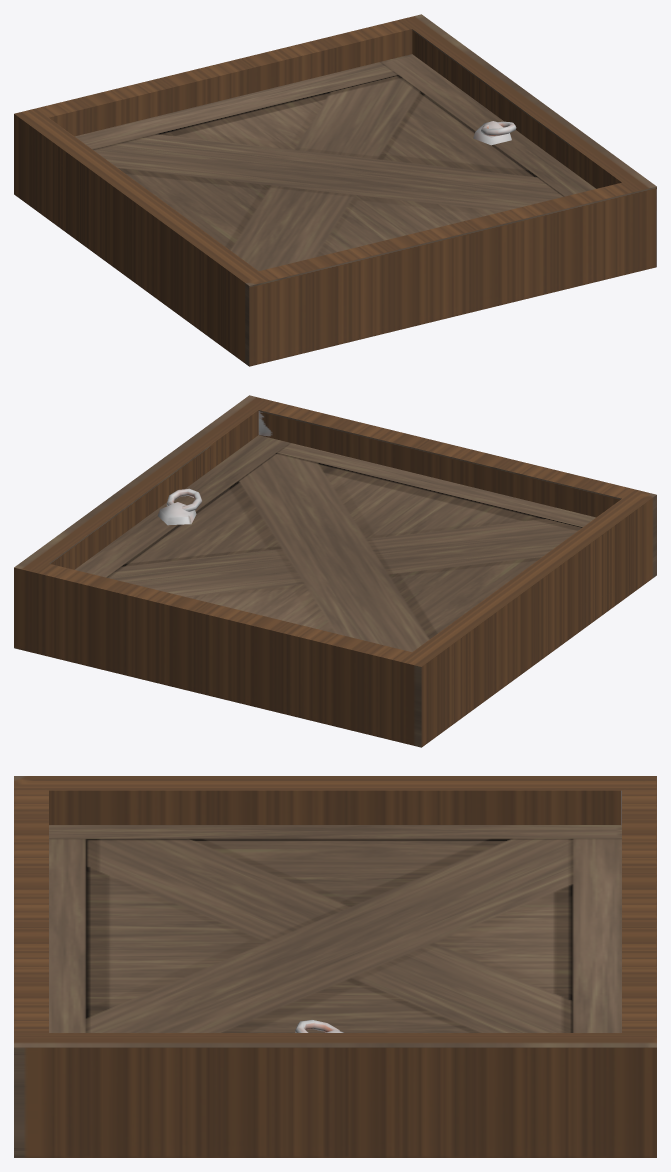
File: Window 3.fbx
3 renders of one model, top to bottom at view 1: azimuth 30°, elevation 25°; view 2: azimuth 150°, elevation 25°; view 3: azimuth 270°, elevation 25°, orthographic. The views are drawn at different scales.
Parts seen in each view (by area): view 1: Frame.002, Window; view 2: Frame.002, Window; view 3: Frame.002, Window.
Part boxes in pixels (left/top/right/bottom): Frame.002: left=14, top=14, right=656, bottom=366; Window: left=75, top=54, right=595, bottom=270; Frame.002: left=14, top=395, right=656, bottom=747; Window: left=75, top=435, right=595, bottom=651; Frame.002: left=14, top=776, right=656, bottom=1157; Window: left=49, top=825, right=621, bottom=1032.
Bounding box in the file's own units: 122 × 23.08 × 122.
